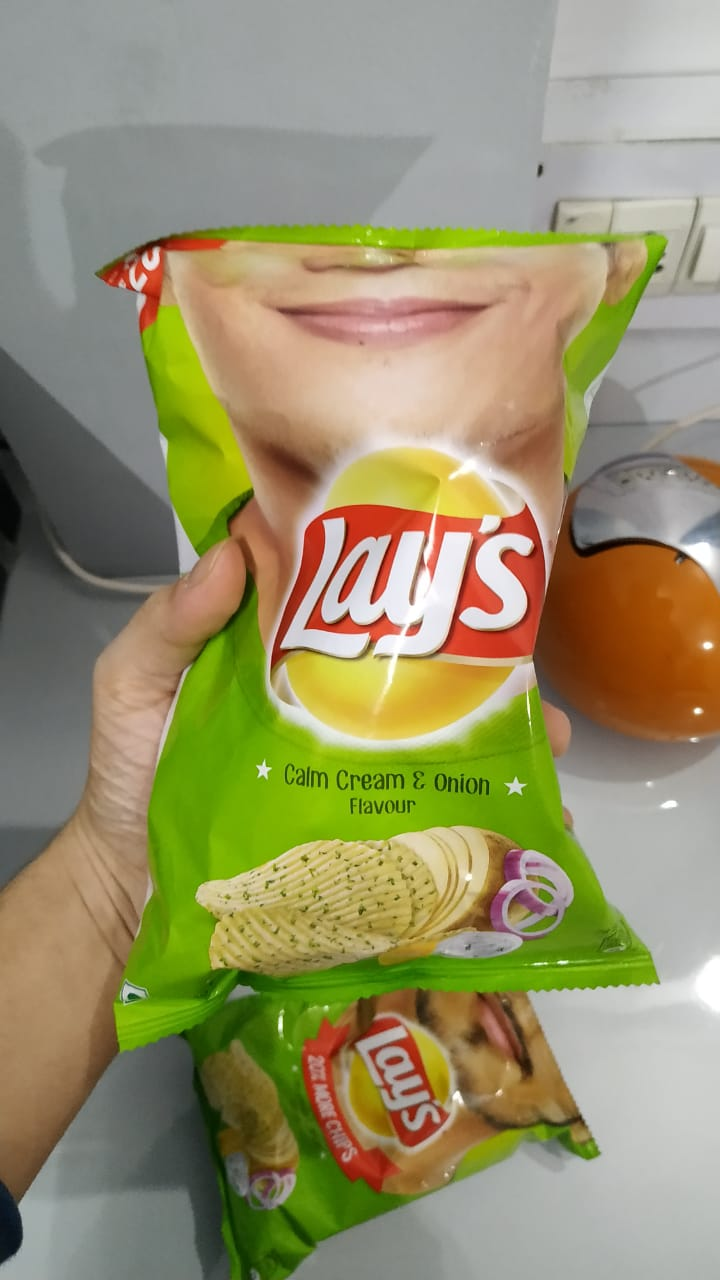lays chips: (96, 212, 660, 1002), (182, 984, 598, 1280)
